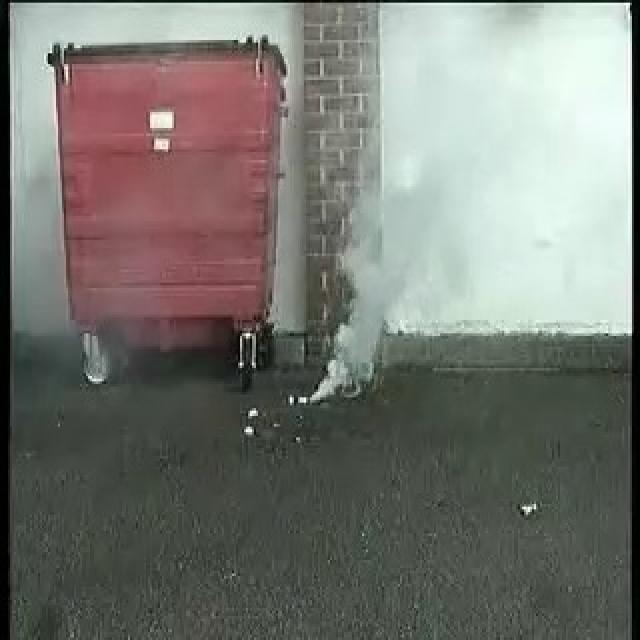smoke: (310, 198, 430, 407)
